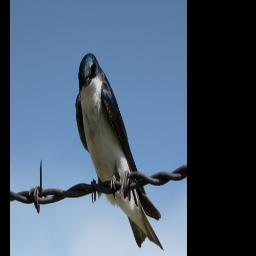Swallow: (75, 53, 162, 250)
